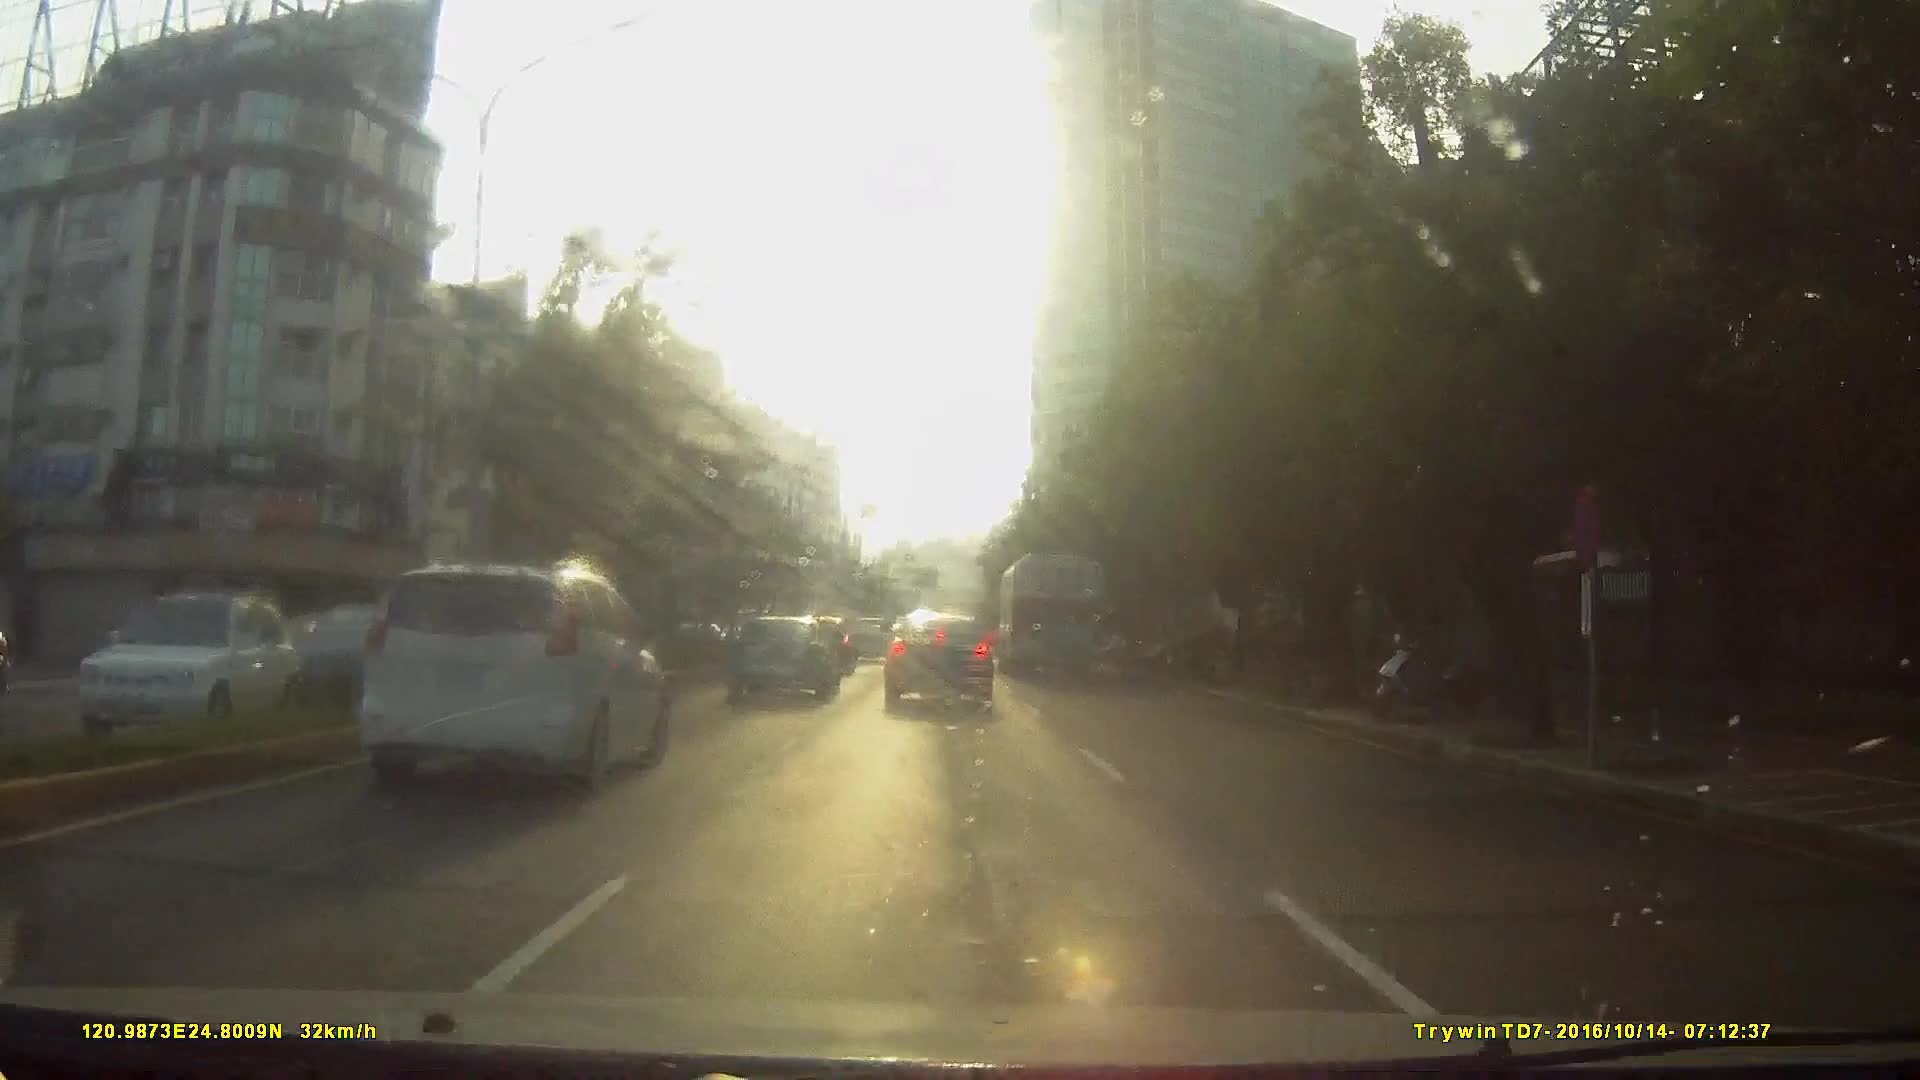vehicle: (251, 556, 684, 868), (349, 554, 667, 790), (51, 585, 298, 762), (270, 603, 431, 707), (996, 549, 1106, 680), (880, 607, 996, 709), (721, 612, 837, 702), (848, 613, 893, 662)
